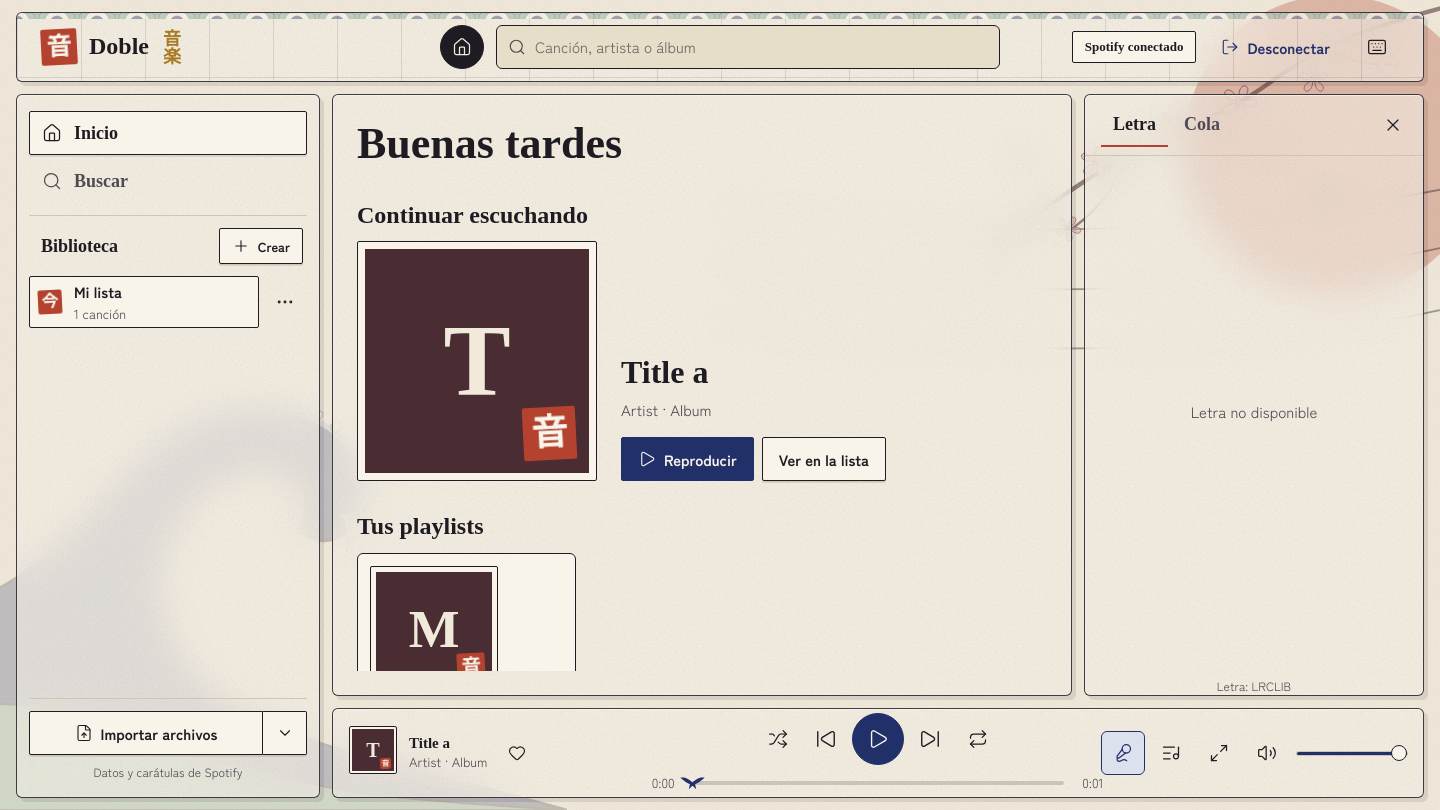
Test: App › shortcuts are ignored while typing in the search input
Step 1. Click the search field → [748, 47], box [496,25,1000,69]
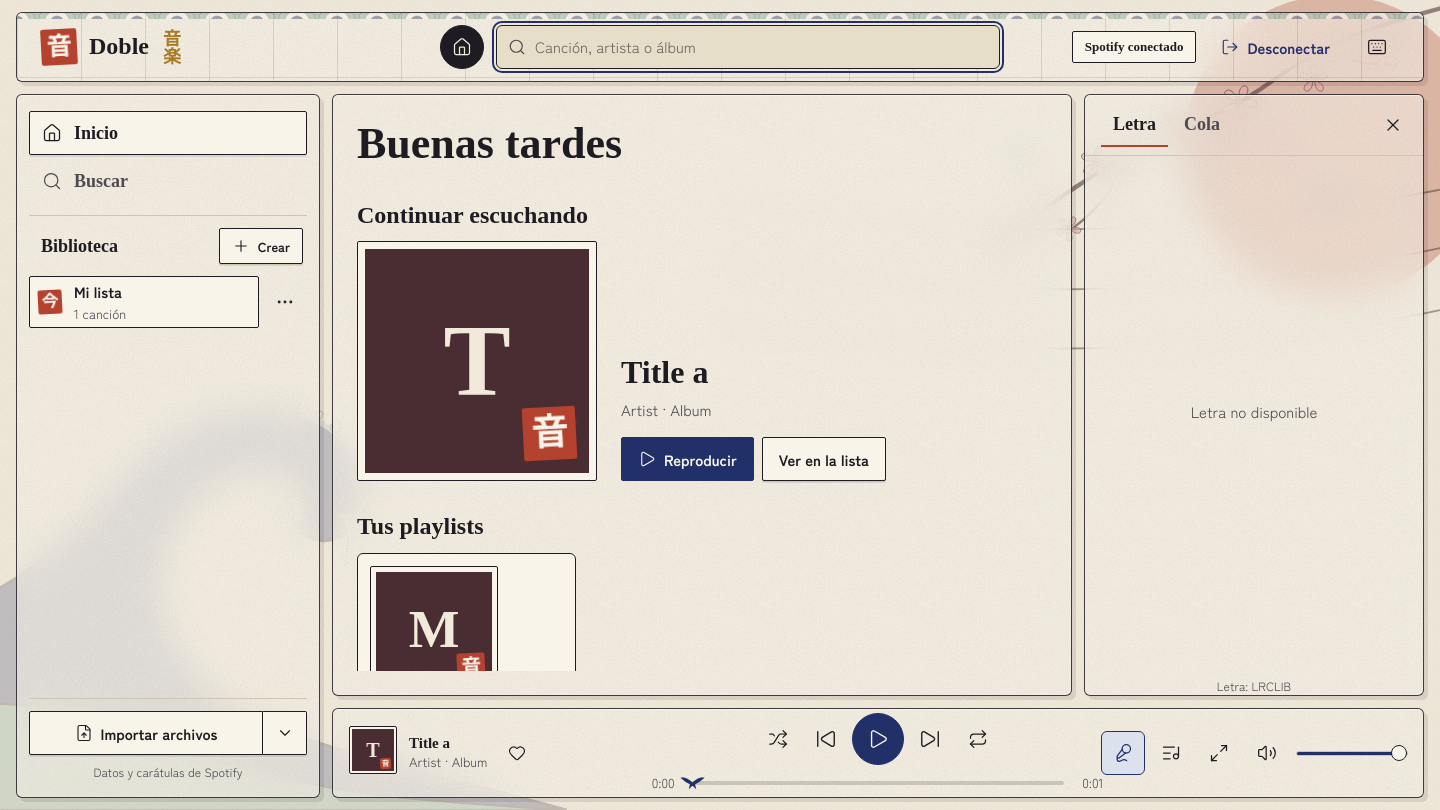
Step 2. Type keys " msr/?"
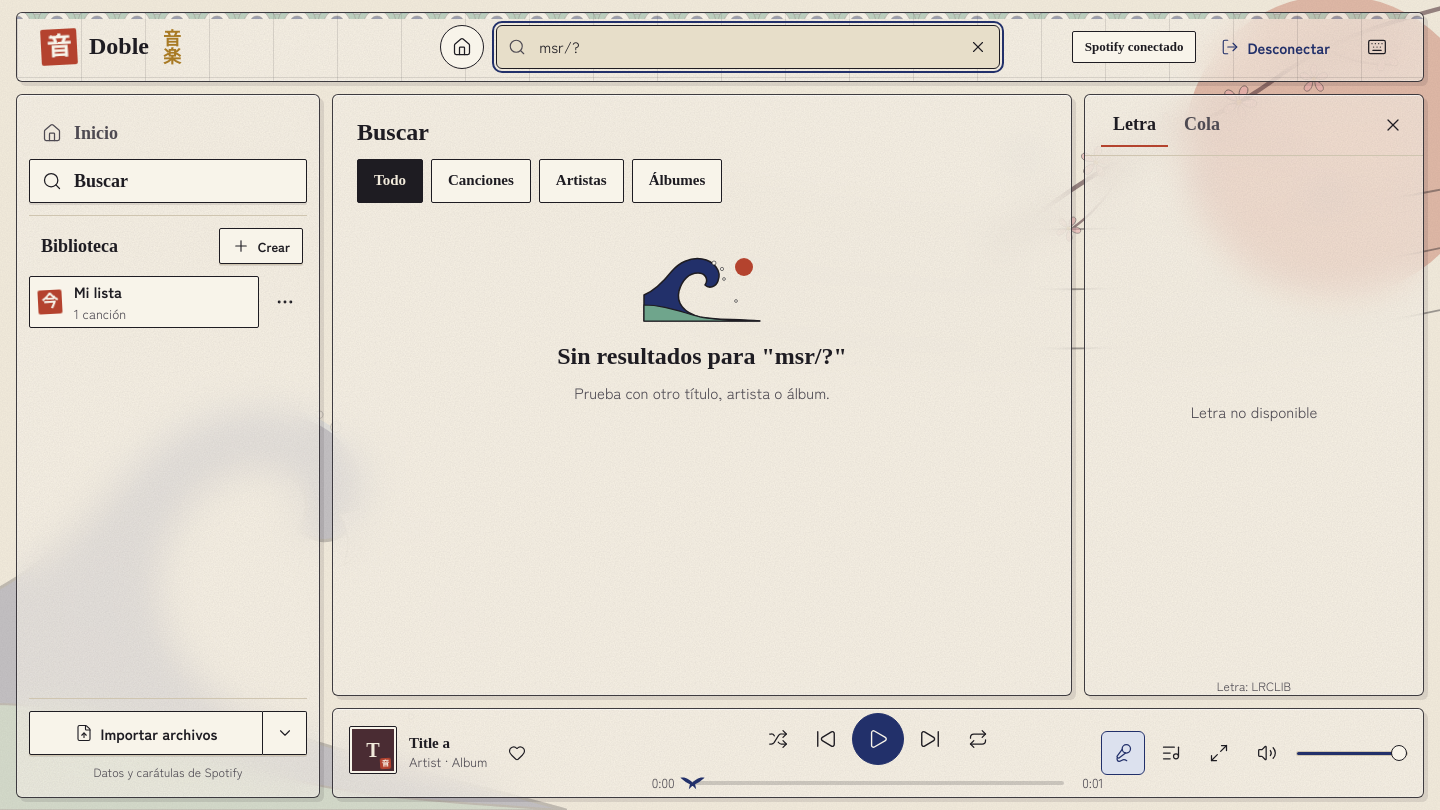
Now the search field holds " msr/?", box [496,25,1000,69]
